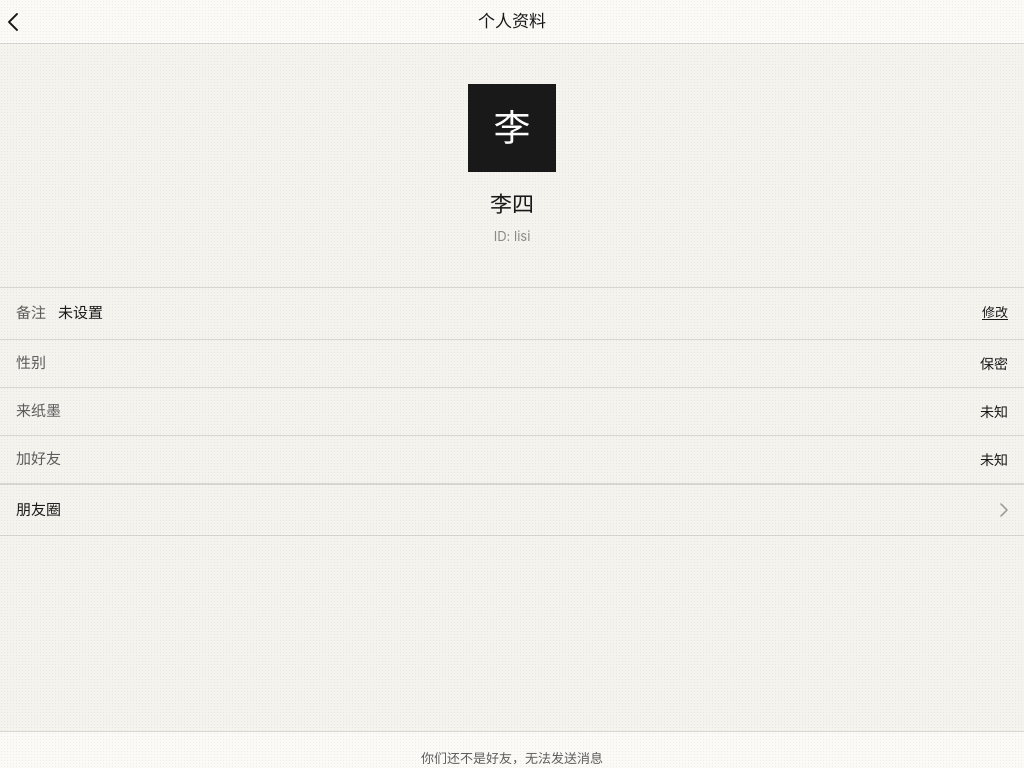
FriendProfile 好友资料页 › 点击朋友圈入口跳转到带 userId 的占位页
This screenshot has width=1024, height=768.
What coordinates should you click on to do the following:
click the button with test id "friend-moments-entry"
I would click on:
 (39, 509)
Its box is left=0, top=484, right=1023, bottom=535.
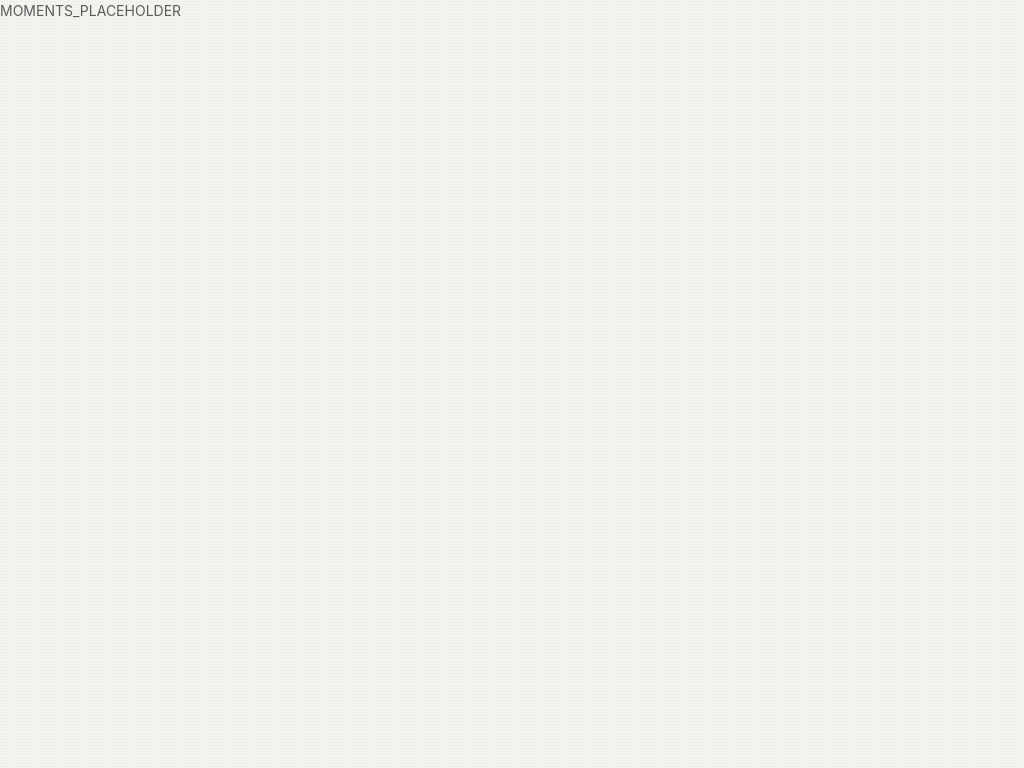
expect the text "MOMENTS_PLACEHOLDER" is shown: met, box left=0, top=2, right=181, bottom=19
